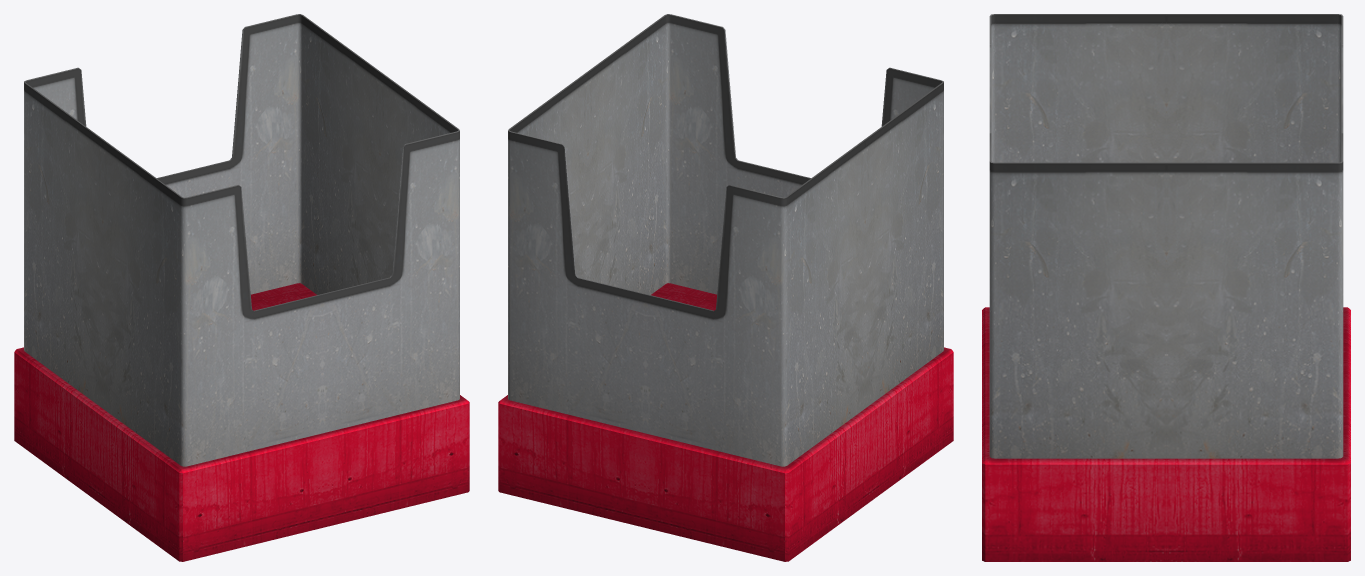
File: bin_red.dae
3 views of the same model, side by side, from view 1: azimuth 30°, elevation 25°; view 2: azimuth 150°, elevation 25°; view 3: azimuth 270°, elevation 25° (orthographic). The views are drawn at different scales.
Parts seen in each view (by area): view 1: Bin; view 2: Bin; view 3: Bin.
Boxes of the visible parts, x1=… form: Bin: x1=14, y1=14, x2=469, y2=561; Bin: x1=498, y1=14, x2=953, y2=561; Bin: x1=982, y1=14, x2=1350, y2=561.
Size of the model in its own units: 668 by 668 by 791.
